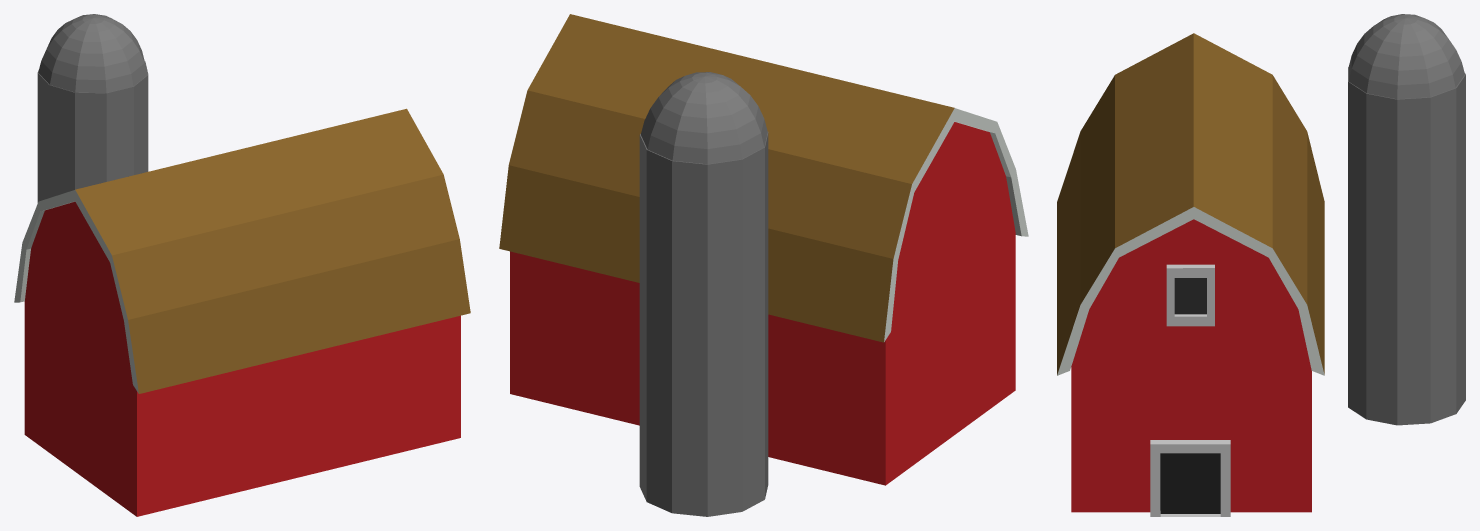
File: farmExtractor.fbx
3 views of the same model, side by side, from view 1: azimuth 30°, elevation 25°; view 2: azimuth 150°, elevation 25°; view 3: azimuth 270°, elevation 25° (orthographic). The views are drawn at different scales.
Visible parts, largest first — view 1: Cylinder.001; view 2: Cylinder.001; view 3: Cylinder.001.
Part boxes in pixels (x1=…): Cylinder.001: x1=14, y1=14, x2=470, y2=516; Cylinder.001: x1=499, y1=14, x2=1028, y2=516; Cylinder.001: x1=1057, y1=14, x2=1465, y2=516.
Size of the model in its own units: 1039 by 1055 by 1019.
